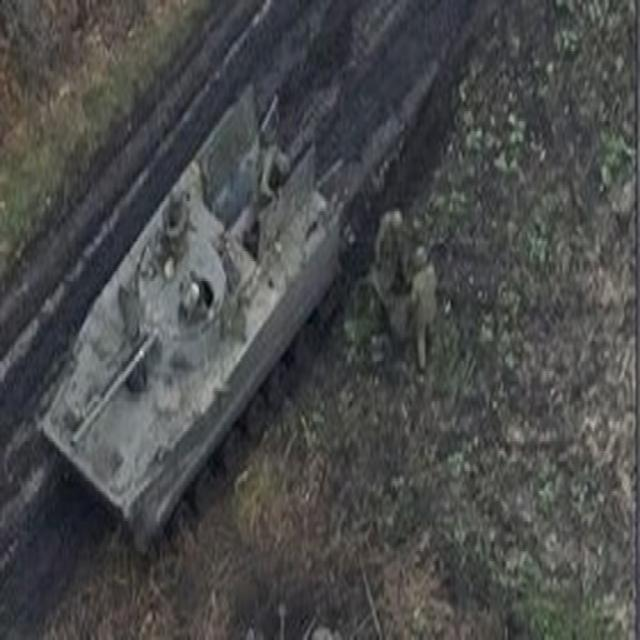APC-IFV: (29, 76, 345, 551)
